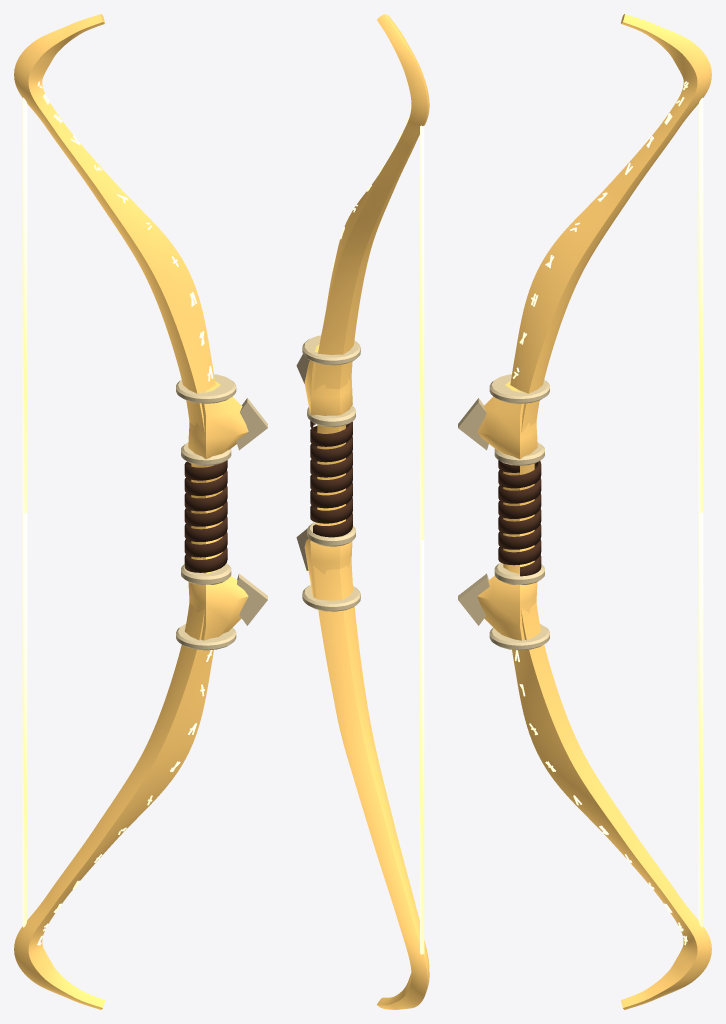
Rendered from golden_bow.glb.
The picture shows the model from 3 angles, left to right: view 1: azimuth 90°, elevation 25°; view 2: azimuth 210°, elevation 25°; view 3: azimuth 270°, elevation 25°; orthographic projection.
Parts seen in each view (by area): view 1: Bow_LimbUpper, Bow_LimbLower, Bow_Riser, Bow_GripWrap, Bow_StringTop, Bow_StringBottom, Bow_CollarRiserTop, Bow_Runes, Bow_CollarRiserBot, Bow_GuardBot, Bow_GuardTop, Bow_CollarGripBot; view 2: Bow_LimbLower, Bow_LimbUpper, Bow_GripWrap, Bow_Riser, Bow_StringTop, Bow_StringBottom, Bow_CollarRiserTop, Bow_CollarRiserBot, Bow_CollarGripTop, Bow_CollarGripBot; view 3: Bow_LimbUpper, Bow_LimbLower, Bow_Riser, Bow_GripWrap, Bow_StringBottom, Bow_StringTop, Bow_CollarRiserTop, Bow_Runes, Bow_GuardBot, Bow_CollarRiserBot, Bow_GuardTop, Bow_CollarGripBot.
Boxes of the visible parts, bbox=[...] form: Bow_LimbUpper: bbox=[14, 14, 215, 433]; Bow_LimbLower: bbox=[14, 602, 213, 1009]; Bow_Riser: bbox=[188, 381, 248, 640]; Bow_GripWrap: bbox=[184, 460, 227, 572]; Bow_StringTop: bbox=[22, 97, 27, 512]; Bow_StringBottom: bbox=[22, 512, 27, 927]; Bow_CollarRiserTop: bbox=[176, 374, 236, 403]; Bow_Runes: bbox=[37, 81, 213, 945]; Bow_CollarRiserBot: bbox=[176, 624, 236, 650]; Bow_GuardBot: bbox=[237, 573, 267, 625]; Bow_GuardTop: bbox=[236, 398, 267, 450]; Bow_CollarGripBot: bbox=[181, 563, 231, 584]; Bow_LimbLower: bbox=[313, 557, 429, 1009]; Bow_LimbUpper: bbox=[313, 14, 429, 390]; Bow_GripWrap: bbox=[310, 420, 352, 537]; Bow_Riser: bbox=[304, 344, 352, 598]; Bow_StringTop: bbox=[420, 125, 424, 540]; Bow_StringBottom: bbox=[420, 540, 424, 954]; Bow_CollarRiserTop: bbox=[302, 335, 360, 365]; Bow_CollarRiserBot: bbox=[302, 585, 360, 611]; Bow_CollarGripTop: bbox=[307, 406, 355, 427]; Bow_CollarGripBot: bbox=[307, 522, 355, 546]; Bow_LimbUpper: bbox=[510, 14, 711, 433]; Bow_LimbLower: bbox=[512, 602, 711, 1009]; Bow_Riser: bbox=[477, 381, 537, 640]; Bow_GripWrap: bbox=[498, 460, 541, 576]; Bow_StringBottom: bbox=[698, 512, 703, 927]; Bow_StringTop: bbox=[698, 97, 703, 512]; Bow_CollarRiserTop: bbox=[489, 374, 549, 403]; Bow_Runes: bbox=[513, 81, 688, 945]; Bow_GuardBot: bbox=[458, 573, 489, 625]; Bow_CollarRiserBot: bbox=[489, 624, 549, 650]; Bow_GuardTop: bbox=[458, 398, 488, 450]; Bow_CollarGripBot: bbox=[494, 562, 544, 584].
Bounding box in the file's own units: 0.0702 × 1.33 × 0.308.
